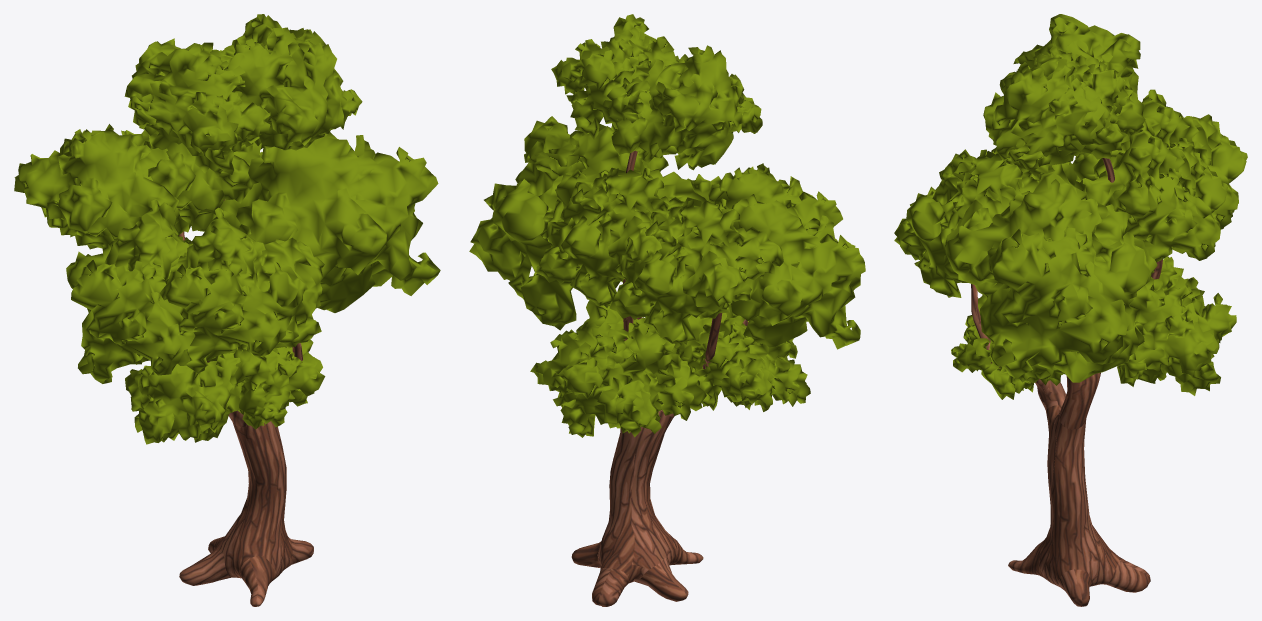
Rendered from tree.glb.
3 renders of one model, left to right at view 1: azimuth 30°, elevation 25°; view 2: azimuth 150°, elevation 25°; view 3: azimuth 270°, elevation 25°, orthographic. The views are drawn at different scales.
Parts seen in each view (by area): view 1: tree; view 2: tree; view 3: tree.
Part boxes in pixels (box(x1,y1,x2,y2)): tree: box(14, 14, 440, 606); tree: box(469, 14, 865, 606); tree: box(894, 14, 1247, 606).
Size of the model in its own units: 7.89 by 11.7 by 6.92.
Materials: 2 (1 with a texture image).
